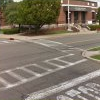crosswalk: (0, 58, 72, 87)
